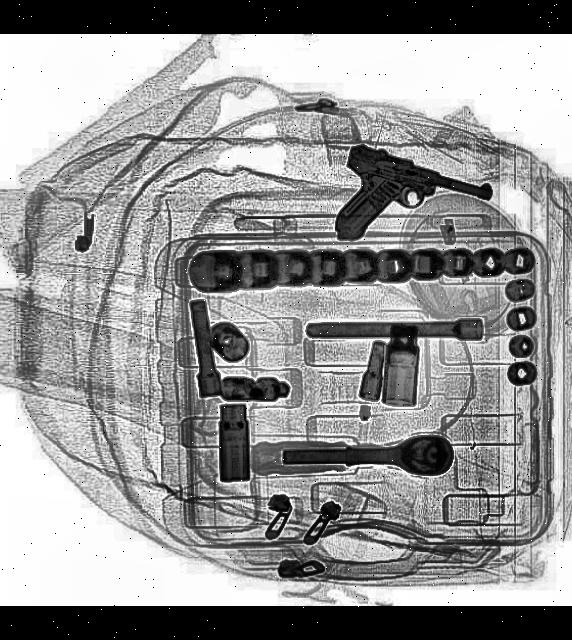Gun: (321, 142, 493, 278)
